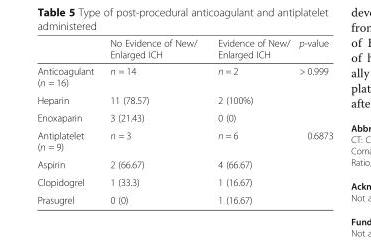table: (36, 37, 332, 205)
table column: (101, 37, 206, 205), (206, 37, 293, 205), (36, 37, 101, 205), (293, 37, 332, 205)
table column header: (36, 37, 332, 62)
table row: (36, 126, 332, 155), (36, 62, 332, 90), (36, 37, 332, 62), (36, 90, 332, 108), (36, 108, 332, 126), (36, 155, 332, 173), (36, 173, 332, 190), (36, 190, 332, 205)
